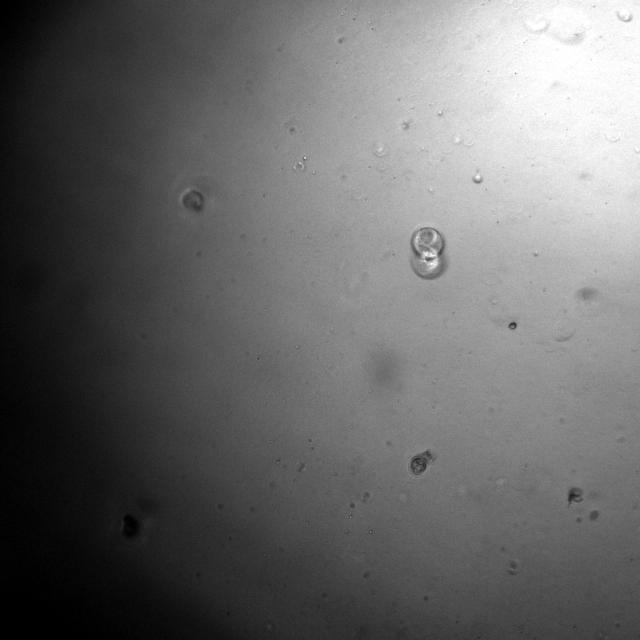organoid: (410, 226, 444, 279), (408, 450, 435, 477), (181, 188, 204, 212), (567, 487, 582, 503)
